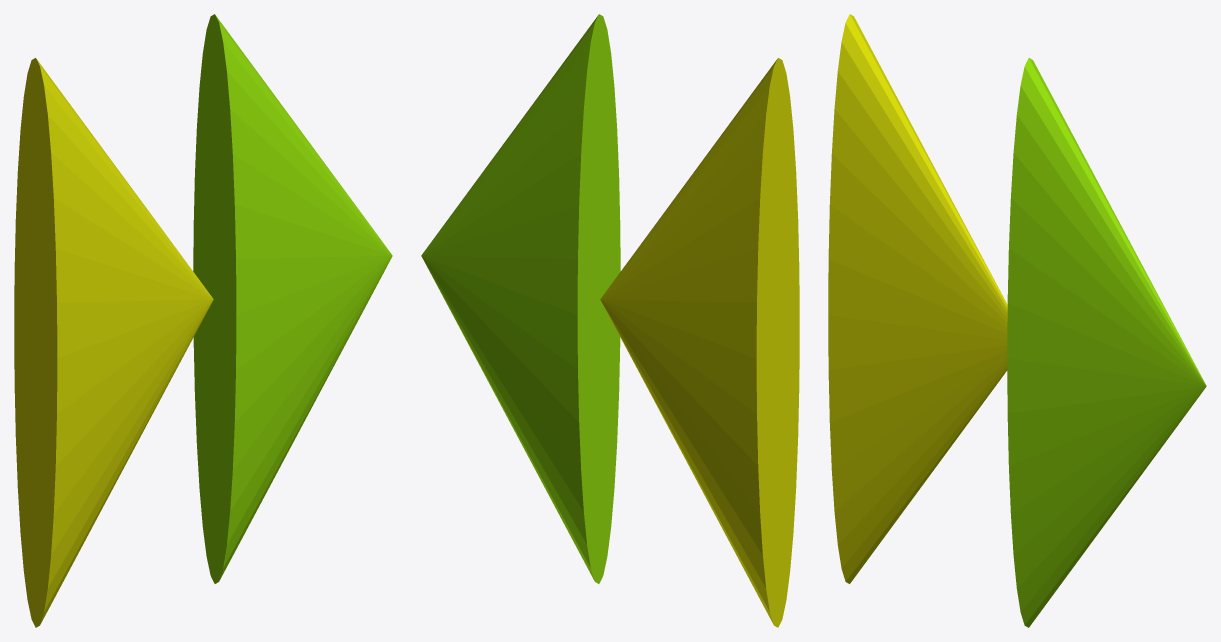
File: speedPassive2.glb
3 views of the same model, side by side, from view 1: azimuth 30°, elevation 25°; view 2: azimuth 150°, elevation 25°; view 3: azimuth 330°, elevation 25° (orthographic).
Visible parts, largest first — view 1: Cone.001, Cone; view 2: Cone.001, Cone; view 3: Cone, Cone.001.
Part boxes in pixels (bbox=[...]): Cone.001: bbox=[14, 58, 213, 627]; Cone: bbox=[193, 14, 392, 583]; Cone.001: bbox=[600, 58, 799, 627]; Cone: bbox=[421, 14, 620, 583]; Cone: bbox=[1007, 58, 1206, 627]; Cone.001: bbox=[828, 14, 1007, 583].
Bounding box in the file's own units: 2.25 × 3.44 × 0.4726.
